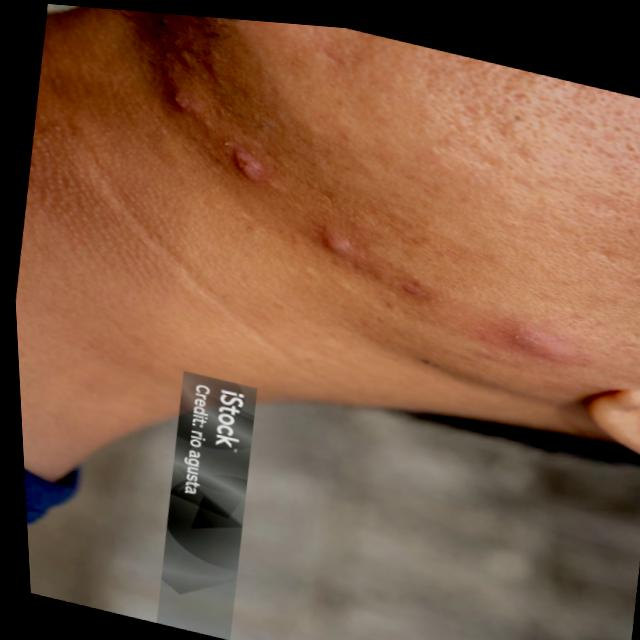nodule: (473, 305, 575, 369), (160, 62, 227, 122), (221, 131, 286, 191), (310, 208, 361, 274)
